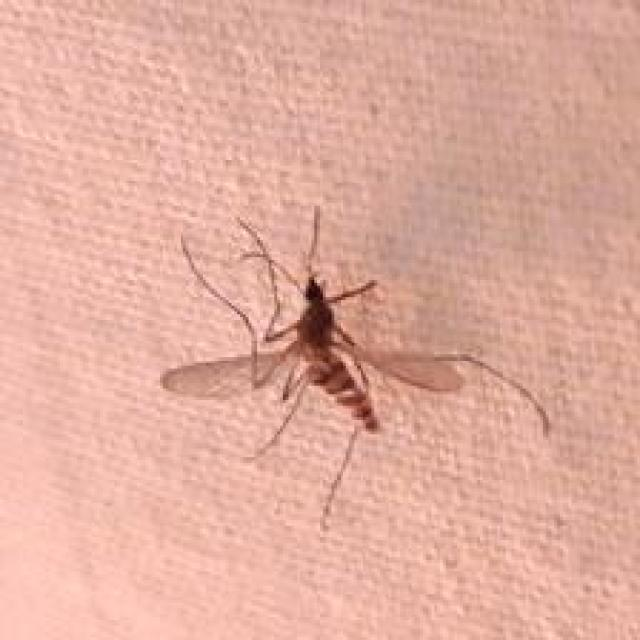Culex: (160, 203, 551, 534)
